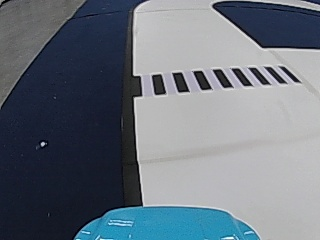CrossWalk: (136, 65, 300, 94)
